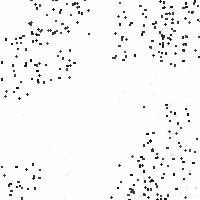pitted_surface: (121, 1, 200, 197), (16, 4, 95, 195), (14, 21, 73, 81), (112, 0, 171, 59), (142, 104, 200, 162), (130, 155, 189, 200), (110, 156, 167, 200), (160, 5, 200, 64), (0, 38, 37, 97), (28, 0, 88, 33), (161, 0, 200, 45), (0, 163, 39, 200)
